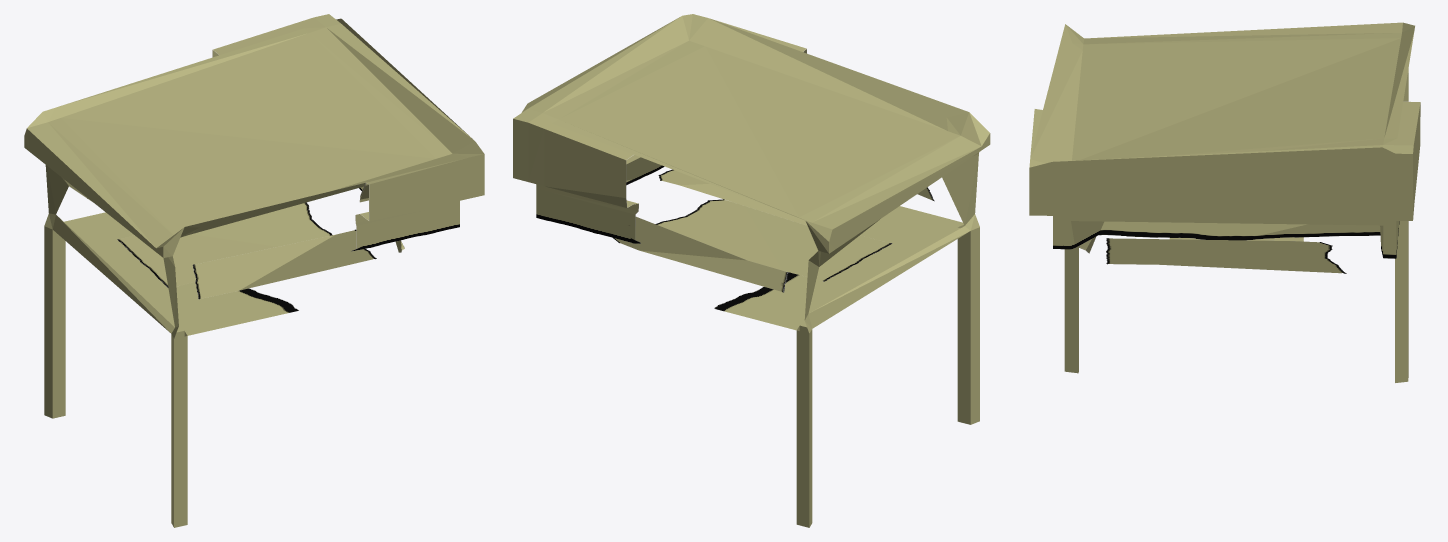
File: desk.fbx
3 views of the same model, side by side, from view 1: azimuth 30°, elevation 25°; view 2: azimuth 150°, elevation 25°; view 3: azimuth 270°, elevation 25° (orthographic). The views are drawn at different scales.
Visible parts, largest first — view 1: pCube5; view 2: pCube5; view 3: pCube5.
Boxes of the visible parts, box(x1,y1,x2,y2) form: pCube5: box(24, 14, 484, 527); pCube5: box(513, 14, 990, 527); pCube5: box(1029, 22, 1420, 382).
Bounding box in the file's own units: 5.09 × 5.17 × 4.87.
